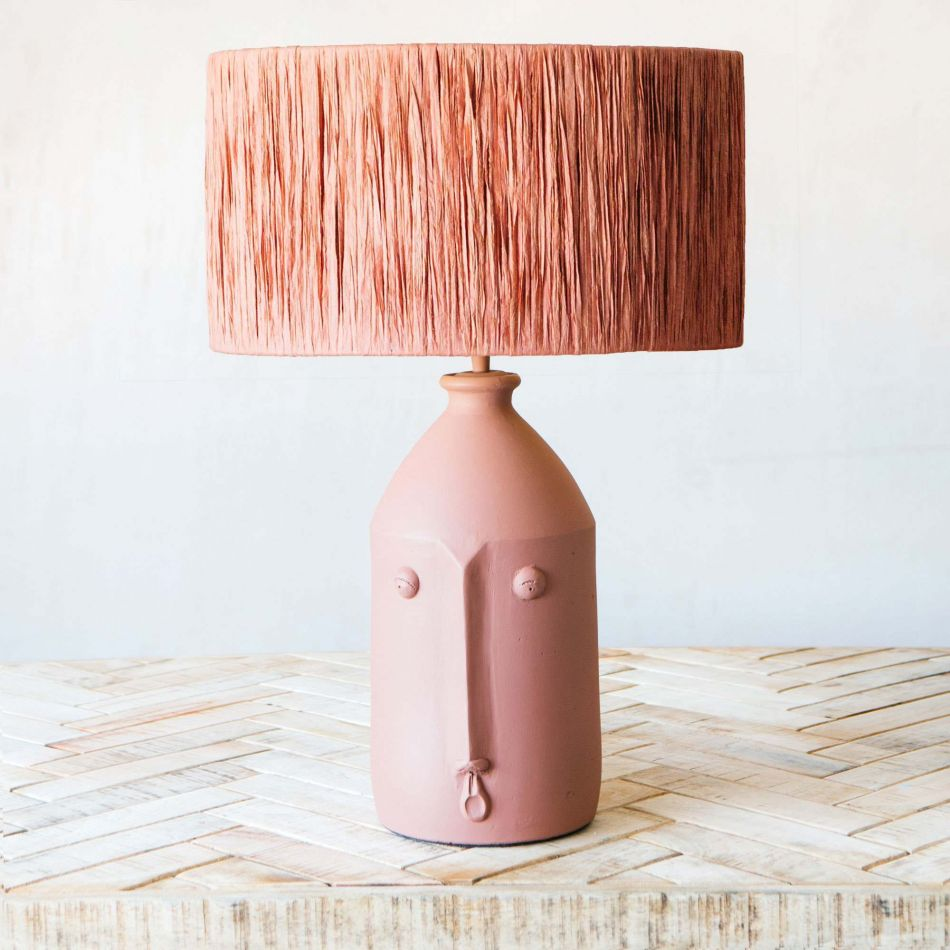lampu: (181, 46, 749, 844)
